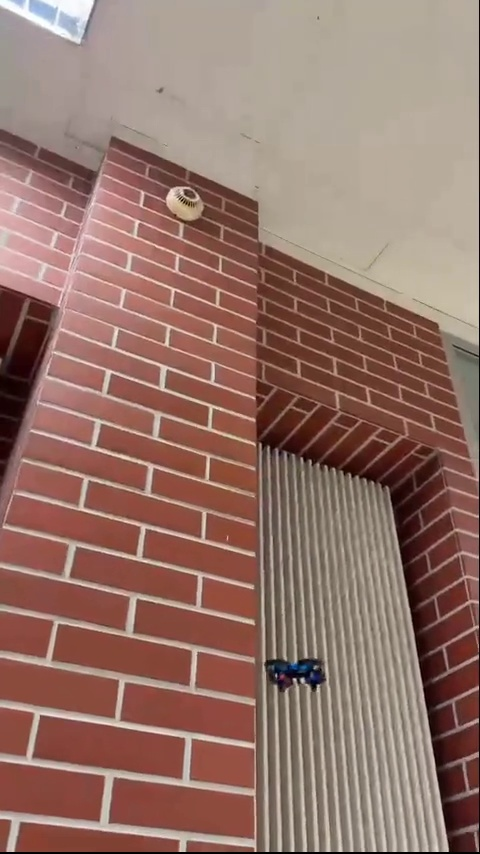drone: (265, 652, 321, 688)
